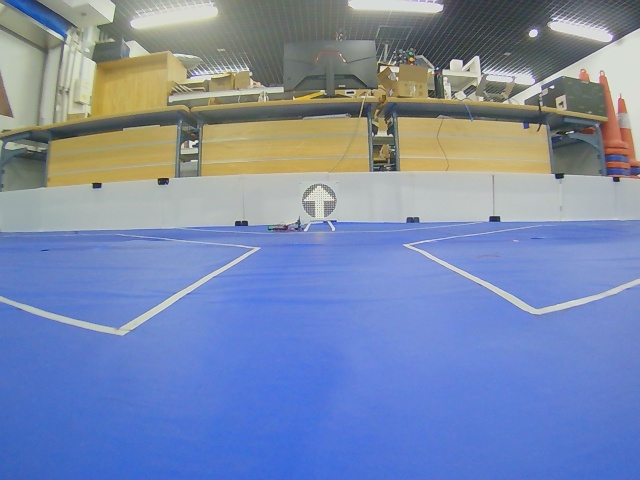straight_yellow: (302, 183, 337, 219)
